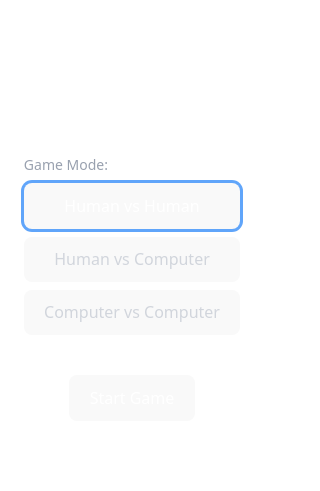
Test: Integration Tests › Mode Selection › shows difficulty selector for HvC and CvC modes
Expected: the text "AI Difficulty:" is not shown
Note: Switch to HvC mode
Click the button "Human vs Computer" at (132, 259), box [24, 236, 240, 282]
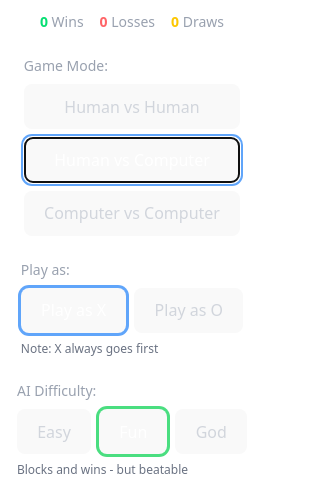
Expected: the text "AI Difficulty:" is shown, [17, 381, 96, 400]
Note: Switch to CvC mode - still has difficulty selector
Click the button "Computer vs Computer" at (132, 213), box [24, 190, 240, 236]
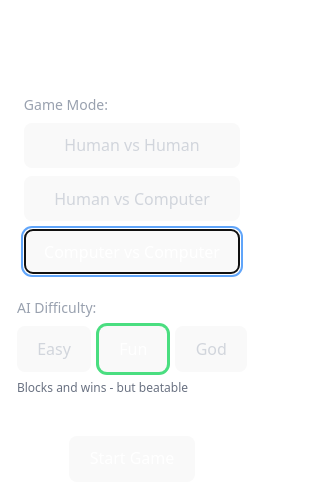
Expected: the text "AI Difficulty:" is shown, [17, 298, 96, 317]
Note: Switch back to HvH mode - no difficulty selector
Click the button "Human vs Human" at (132, 145), box [24, 123, 240, 168]
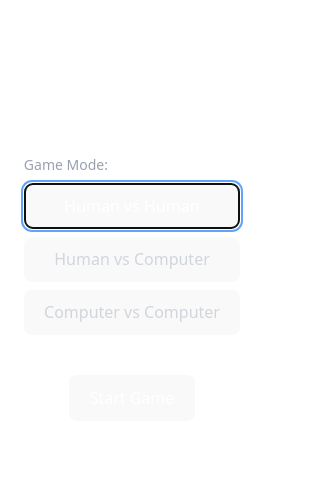
Expected: the text "AI Difficulty:" is gone
